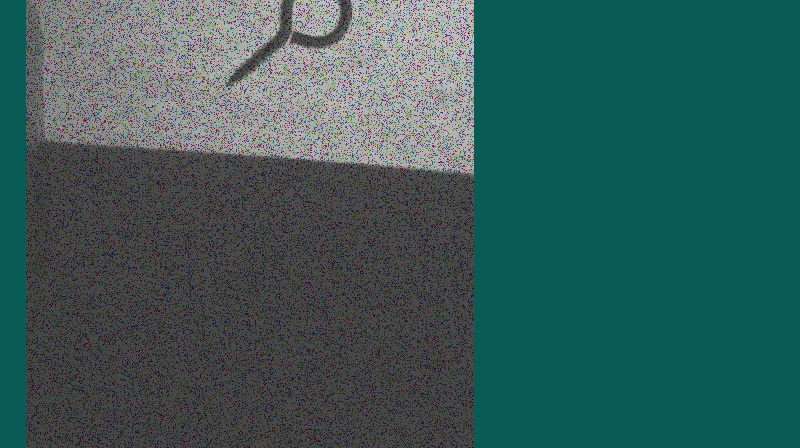O001: (217, 0, 352, 90)
